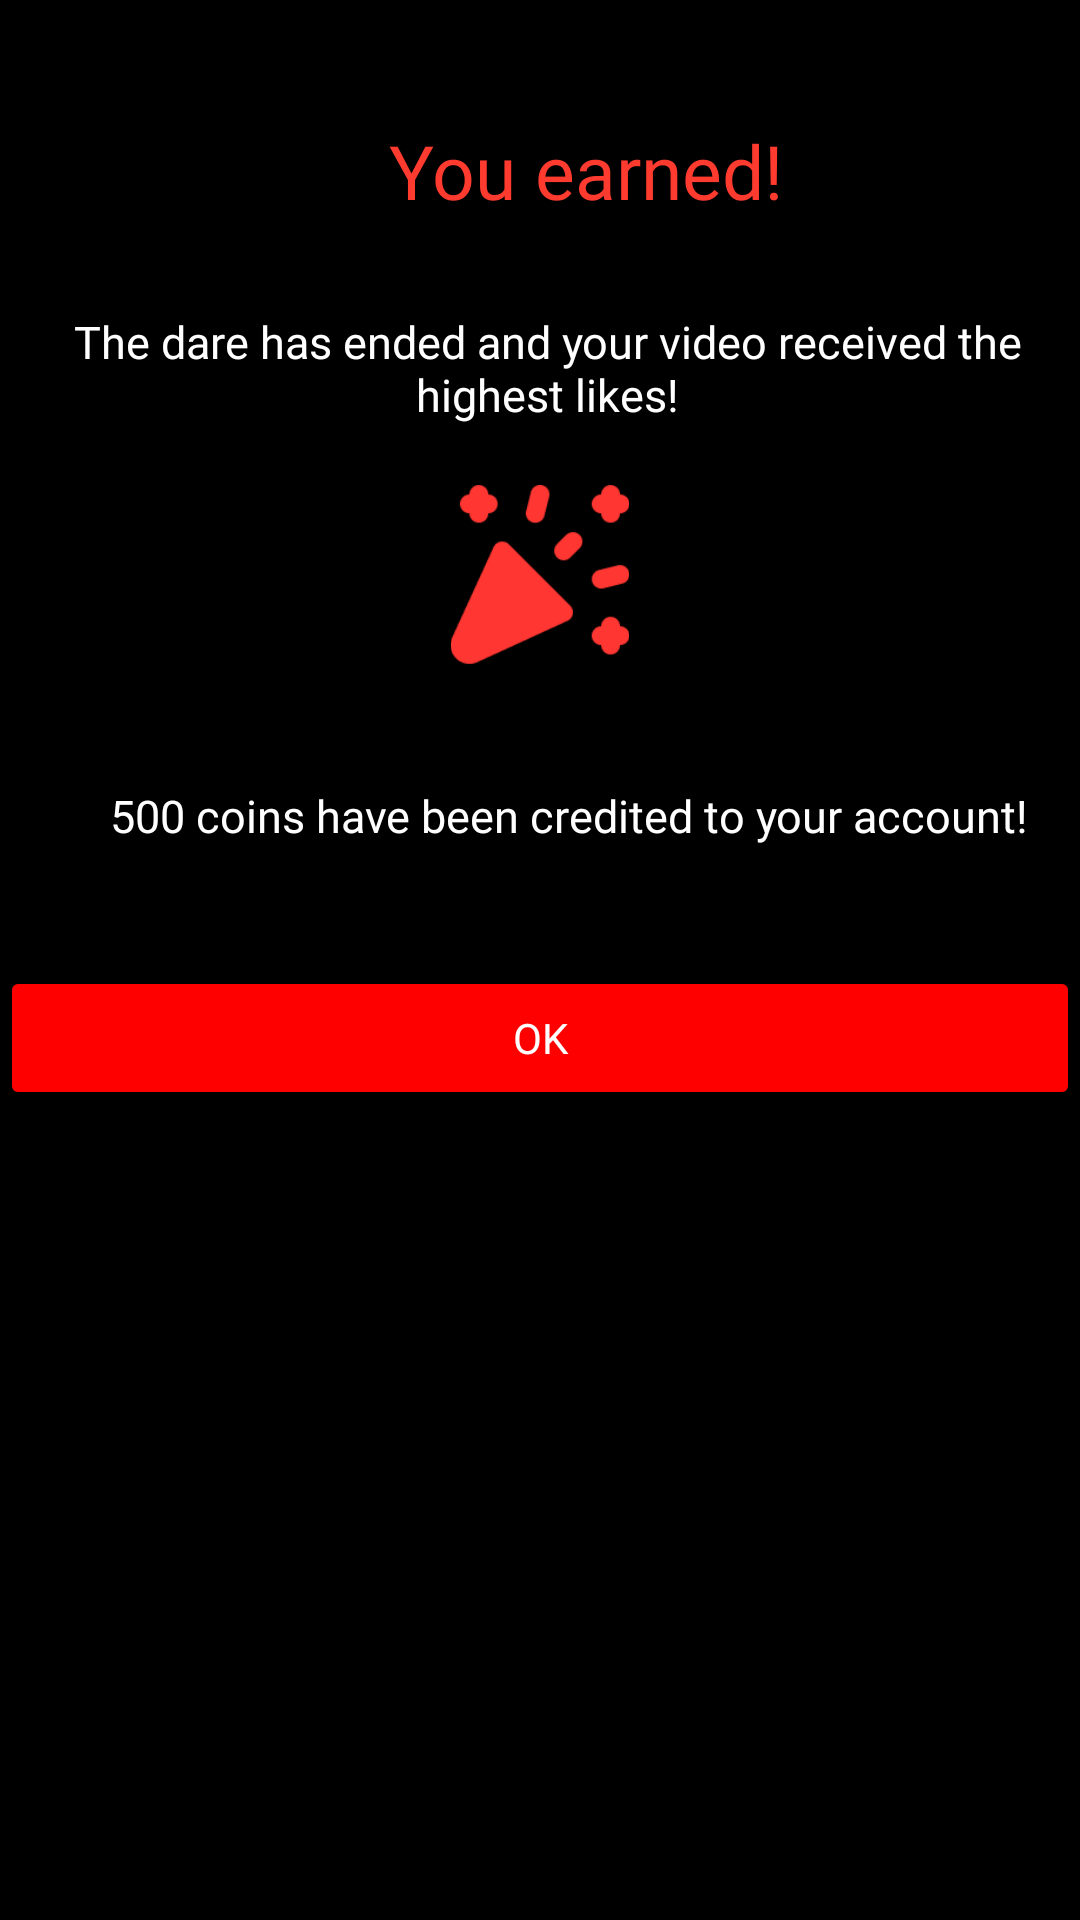

Where to tap for icons on this 1080*1920 app screen, as (x=x, y=y):
earned: (x=540, y=574)
